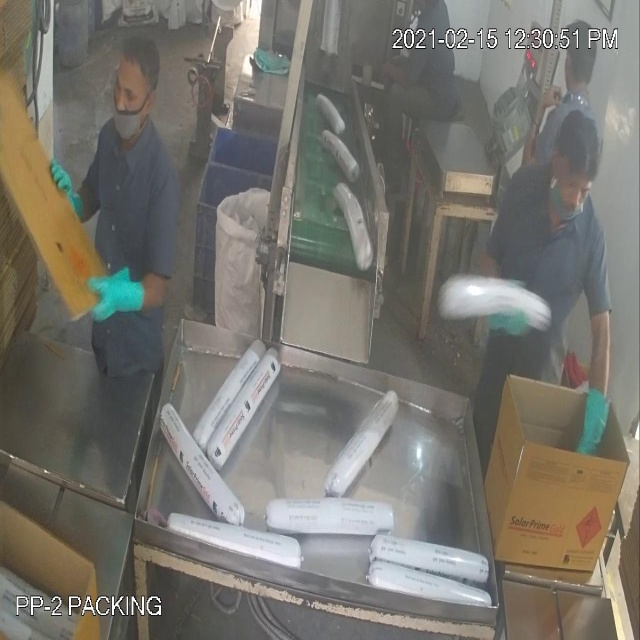Guantes: (83, 255, 158, 332), (571, 375, 620, 475)
Sin_guantes: (514, 67, 565, 172)
